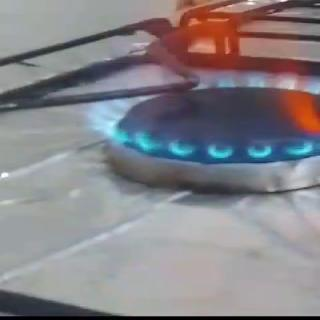fire: (77, 0, 320, 162)
